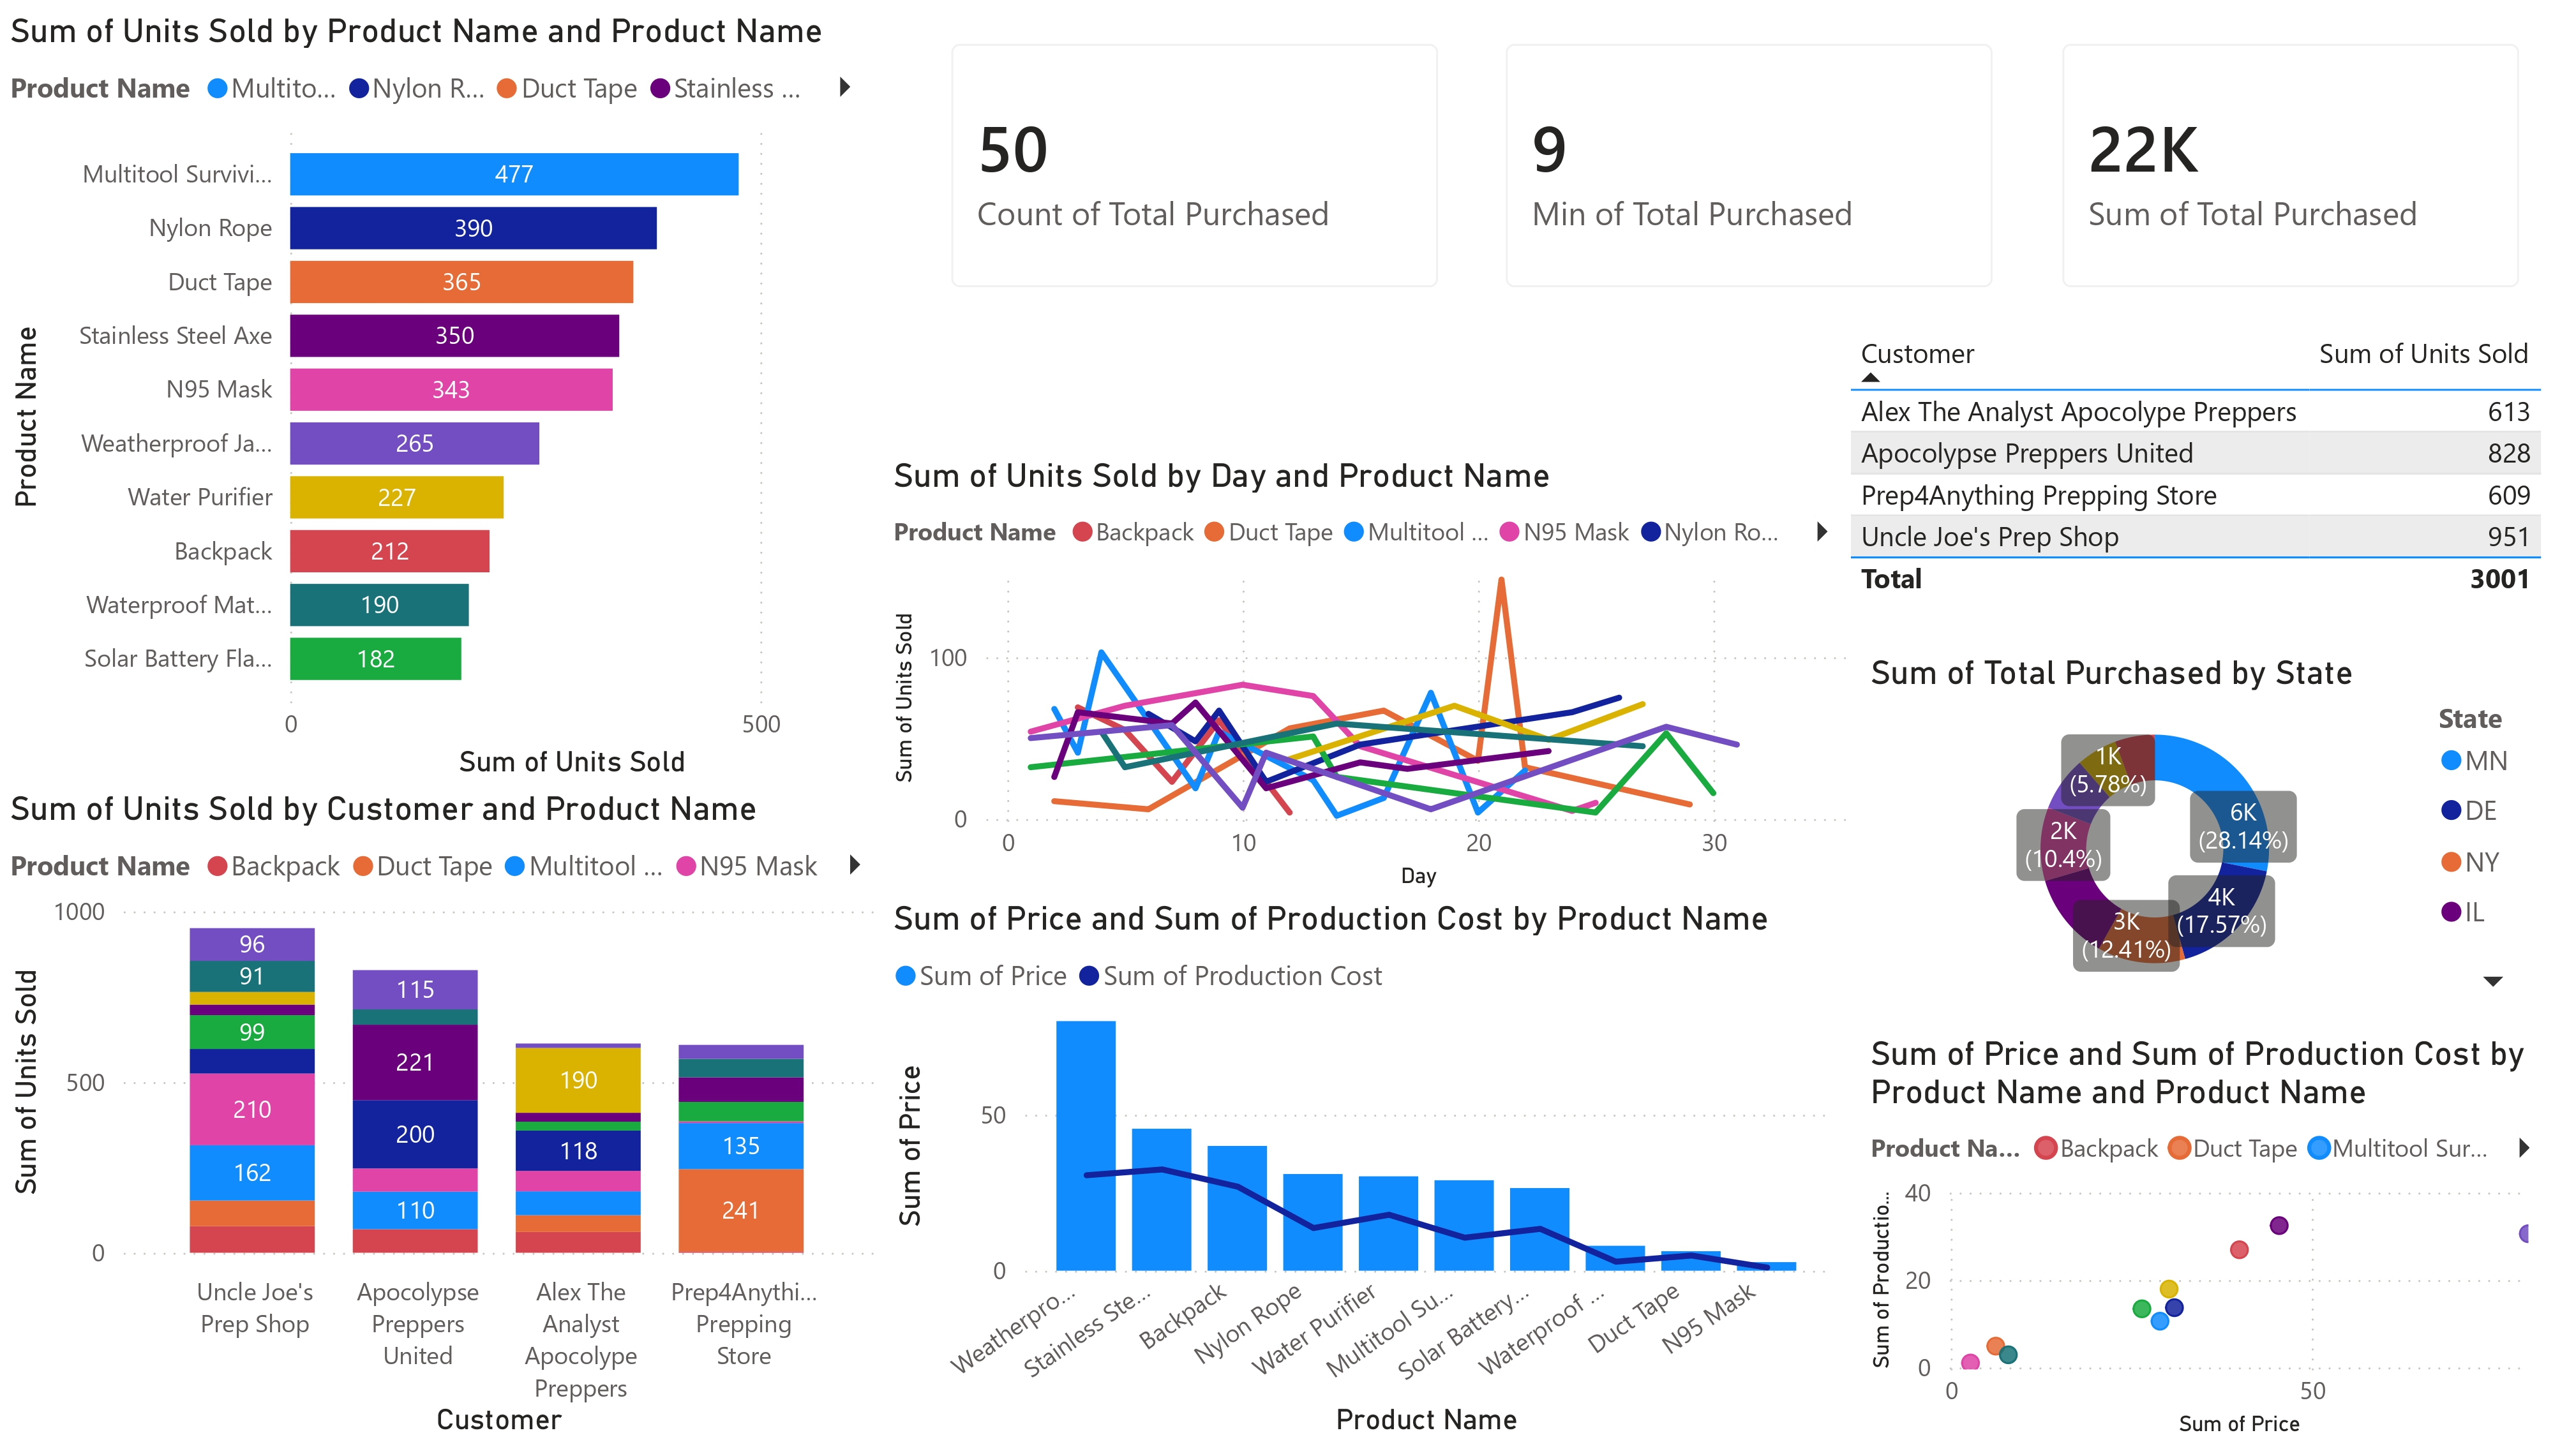

Layout of this report page (visuals, bound fields, positions):
{"tool":"powerbi","page":{"name":"Page 1","canvas":[1280,720],"ordinal":0},"visuals":[{"type":"columnChart","fields":{"Category":["Customer Information.Customer"],"Y":["Sum(Apocolypse Sales.Units Sold)"],"Series":["Apocolypse Store.Product Name"]},"box":[0,390,443.3,330],"z":0},{"type":"lineChart","fields":{"Series":["Apocolypse Store.Product Name"],"Y":["Sum(Apocolypse Sales.Units Sold)"],"Category":["Apocolypse Sales.Date Purchased.Variation.Date Hierarchy.Day"]},"box":[443.3,223.3,490,221.7],"z":1000},{"type":"lineStackedColumnComboChart","fields":{"Category":["Apocolypse Store.Product Name"],"Y":["Sum(Apocolypse Store.Price)"],"Y2":["Sum(Apocolypse Store.Production Cost)"]},"box":[443.3,445,478.3,275],"z":2000},{"type":"scatterChart","fields":{"X":["Sum(Apocolypse Store.Price)"],"Category":["Apocolypse Store.Product Name"],"Y":["Sum(Apocolypse Store.Production Cost)"],"Series":["Apocolypse Store.Product Name"]},"box":[933.3,513.3,346.7,206.7],"z":3000},{"type":"donutChart","fields":{"Category":["Customer Buyer Information.State"],"Y":["Sum(Customer Buyer Information.Total Purchased)"]},"box":[933.3,321.7,346.7,178.3],"z":4000},{"type":"barChart","fields":{"Category":["Apocolypse Store.Product Name"],"Y":["Sum(Apocolypse Sales.Units Sold)"],"Series":["Apocolypse Store.Product Name"]},"box":[0,0,443.3,390],"z":5000},{"type":"cardVisual","fields":{"Data":["Min(Customer Buyer Information.Total Purchased)"]},"box":[738.3,0,278.3,156.7],"z":6000},{"type":"cardVisual","fields":{"Data":["Sum(Customer Buyer Information.Total Purchased)"]},"box":[1016.7,0,263.3,156.7],"z":7000},{"type":"cardVisual","fields":{"Data":["CountNonNull(Customer Buyer Information.Total Purchased)"]},"box":[460,0,278.3,156.7],"z":8000},{"type":"tableEx","fields":{"Values":["Customer Information.Customer","Sum(Apocolypse Sales.Units Sold)"]},"box":[921.7,156.7,358.3,165],"z":9000}]}

Visuals, with their boxes in screenshot pixels (x1, y1, x2, y2), scaled from the page's 1280x720 canvas onto the 2553x1456 screenshot:
columnChart - Customer Information.Customer x Sum(Apocolypse Sales.Units Sold): Rect(0, 789, 884, 1455)
lineChart - Apocolypse Store.Product Name x Sum(Apocolypse Sales.Units Sold): Rect(884, 452, 1862, 900)
lineStackedColumnComboChart - Apocolypse Store.Product Name x Sum(Apocolypse Store.Price): Rect(884, 900, 1838, 1455)
scatterChart - Sum(Apocolypse Store.Price) x Apocolypse Store.Product Name: Rect(1862, 1038, 2552, 1455)
donutChart - Customer Buyer Information.State x Sum(Customer Buyer Information.Total Purchased): Rect(1862, 651, 2552, 1011)
barChart - Apocolypse Store.Product Name x Sum(Apocolypse Sales.Units Sold): Rect(0, 0, 884, 789)
cardVisual - Min(Customer Buyer Information.Total Purchased): Rect(1472, 0, 2028, 317)
cardVisual - Sum(Customer Buyer Information.Total Purchased): Rect(2028, 0, 2552, 317)
cardVisual - CountNonNull(Customer Buyer Information.Total Purchased): Rect(918, 0, 1472, 317)
tableEx - Customer Information.Customer x Sum(Apocolypse Sales.Units Sold): Rect(1838, 317, 2552, 651)
